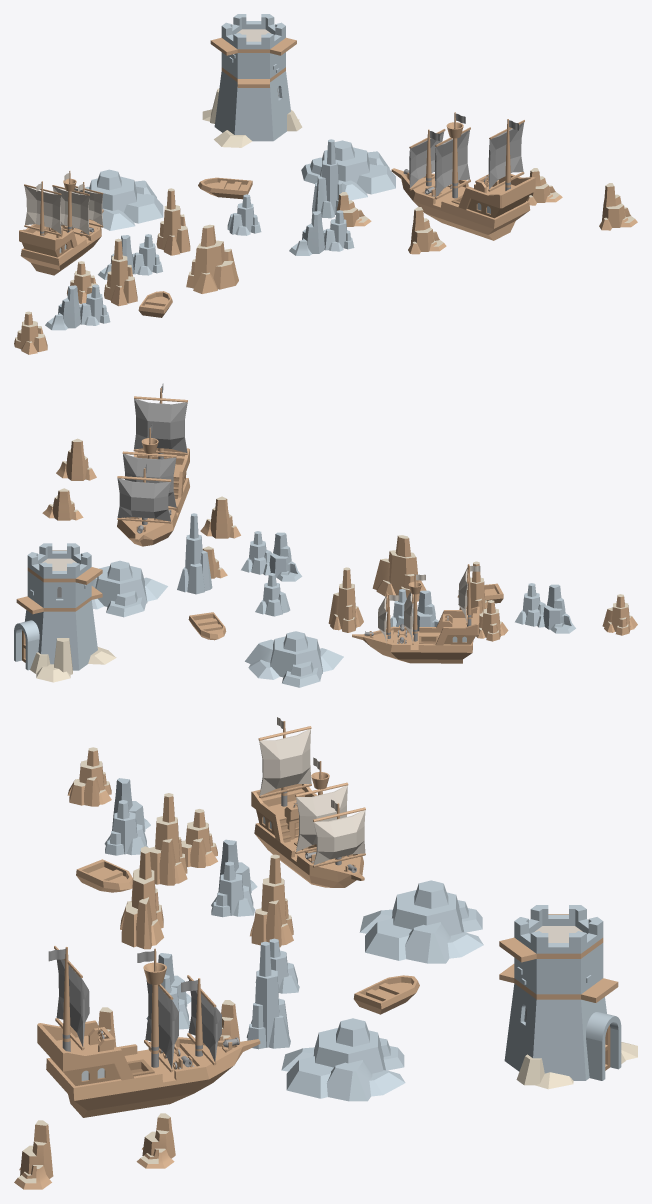
Rendered from water.glb.
3 renders of one model, top to bottom at view 1: azimuth 30°, elevation 25°; view 2: azimuth 150°, elevation 25°; view 3: azimuth 270°, elevation 25°, orthographic. The views are drawn at different scales.
Visible parts, largest first — view 1: tower, ship_dark_8angles, ship_light_8angles, formation_stone.006, formation_stone.002, formation_rock.004, sail_back, sail_middle, formation_stone.003, formation_rock.003, formation_rock.001, sail_back 1 (+17 smaller); view 2: tower, ship_light_8angles, formation_stone.002, formation_stone.006, ship_dark_8angles, sail_back, sail_front, formation_rock.004, formation_stone.003, sail_middle, formation_rock.001, formationLarge_stone.001 (+12 smaller); view 3: tower, ship_dark_8angles, formation_stone.006, formation_stone.002, ship_light_8angles, sail_back 1, formation_rock.004, formation_stone.003, sail_front 1, formation_rock.001, formation_rock.003, sail_middle 1 (+14 smaller).
Boxes of the visible parts, box(x1,y1,x2,y2) form: tower: box(202, 14, 302, 147); ship_dark_8angles: box(391, 112, 535, 240); ship_light_8angles: box(19, 171, 103, 275); formation_stone.006: box(301, 140, 395, 200); formation_stone.002: box(84, 169, 163, 230); formation_rock.004: box(186, 224, 238, 293); sail_back: box(488, 120, 524, 191); sail_middle: box(435, 127, 470, 199); formation_stone.003: box(312, 139, 342, 218); formation_rock.003: box(104, 238, 137, 306); formation_rock.001: box(156, 188, 190, 255); sail_back 1: box(24, 184, 61, 235); tower: box(14, 543, 116, 682); ship_light_8angles: box(352, 565, 480, 663); formation_stone.002: box(245, 631, 343, 687); formation_stone.006: box(91, 560, 167, 617); ship_dark_8angles: box(117, 383, 189, 546); sail_back: box(133, 396, 187, 454); sail_front: box(117, 476, 171, 523); formation_rock.004: box(372, 535, 426, 601); formation_stone.003: box(177, 513, 212, 594); sail_middle: box(122, 451, 176, 509); formation_rock.001: box(328, 567, 363, 632); formationLarge_stone.001: box(537, 584, 575, 633); tower: box(499, 905, 637, 1089); ship_dark_8angles: box(37, 947, 260, 1117); formation_stone.006: box(281, 1018, 405, 1101); formation_stone.002: box(359, 880, 483, 963); ship_light_8angles: box(251, 717, 364, 887); sail_back 1: box(258, 726, 311, 797); formation_rock.004: box(120, 846, 163, 949); formation_stone.003: box(246, 941, 290, 1049); sail_front 1: box(313, 807, 365, 867); formation_rock.001: box(250, 854, 293, 947); formation_rock.003: box(150, 793, 187, 885); sail_middle 1: box(295, 782, 348, 853).
Bounding box in the file's own units: 22.87 × 4.39 × 15.02.
